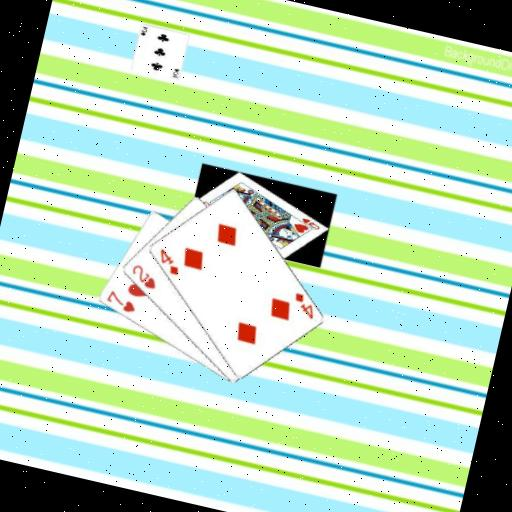2H: (126, 260, 161, 291)
4D: (152, 245, 184, 278), (287, 289, 319, 321)
7H: (101, 287, 140, 316)
